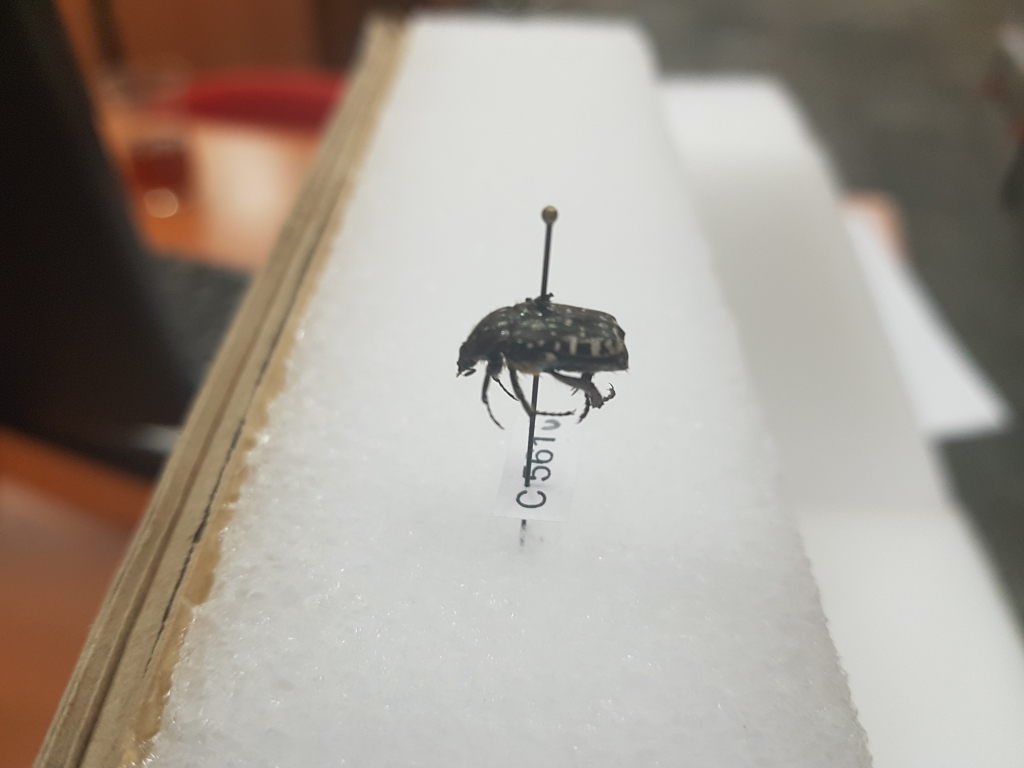Oxythyrea_funesta: (453, 283, 633, 413)
